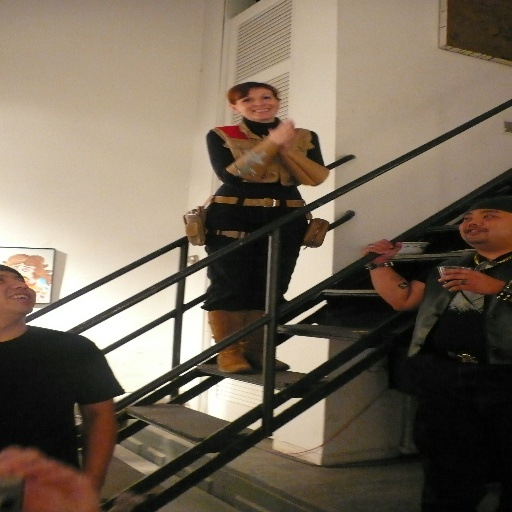hand: (7, 438, 103, 511), (438, 267, 501, 296), (361, 238, 403, 264), (265, 116, 294, 142)
